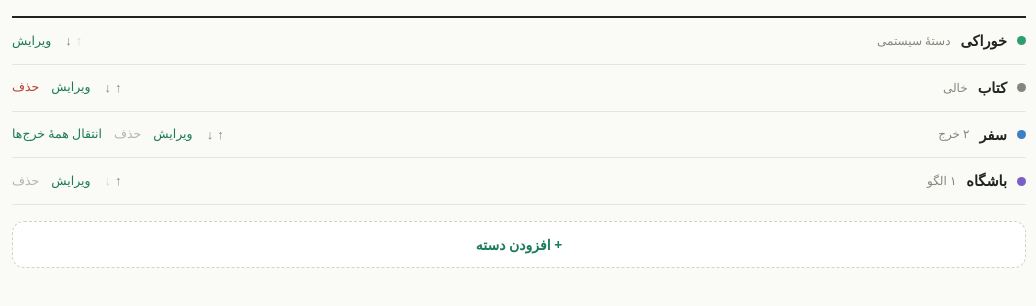
delete flow › deletes an empty custom category behind an inline confirm
This screenshot has width=1036, height=306.
Click the button "حذف" in the row of "خالی" at x=26, y=88, box [12, 78, 39, 97]
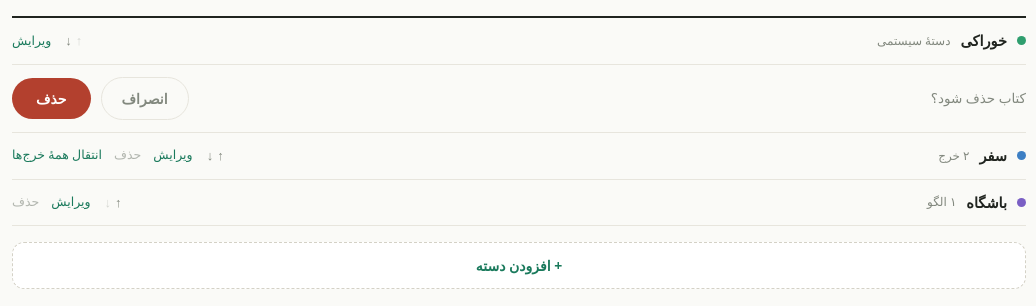
Now the text "کتاب حذف شود؟" is shown, box [931, 88, 1026, 108]
Click the button "حذف" in the row of "حذف شود؟" at x=51, y=98, box [12, 78, 90, 119]
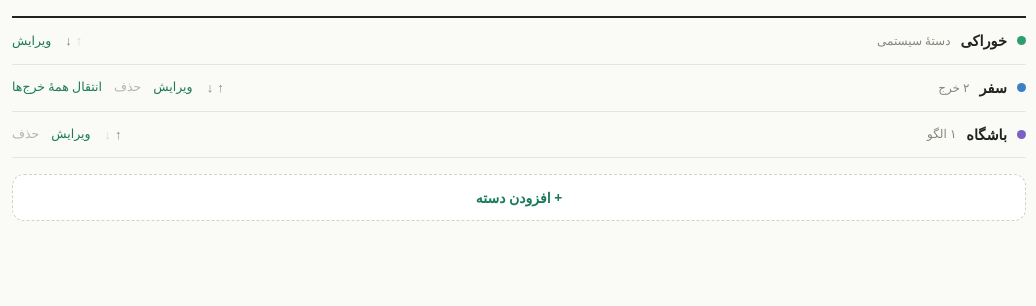
Now the text "کتاب حذف شود؟" is gone
